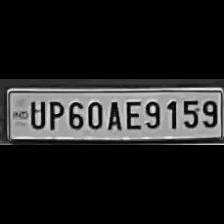0: (84, 98, 104, 130)
1: (163, 96, 179, 130)
5: (179, 96, 199, 128)
6: (64, 98, 82, 130)
9: (198, 97, 220, 129), (142, 96, 162, 130)
A: (104, 97, 122, 130)
E: (122, 97, 142, 131)
P: (44, 97, 64, 130)
U: (26, 97, 46, 128)
